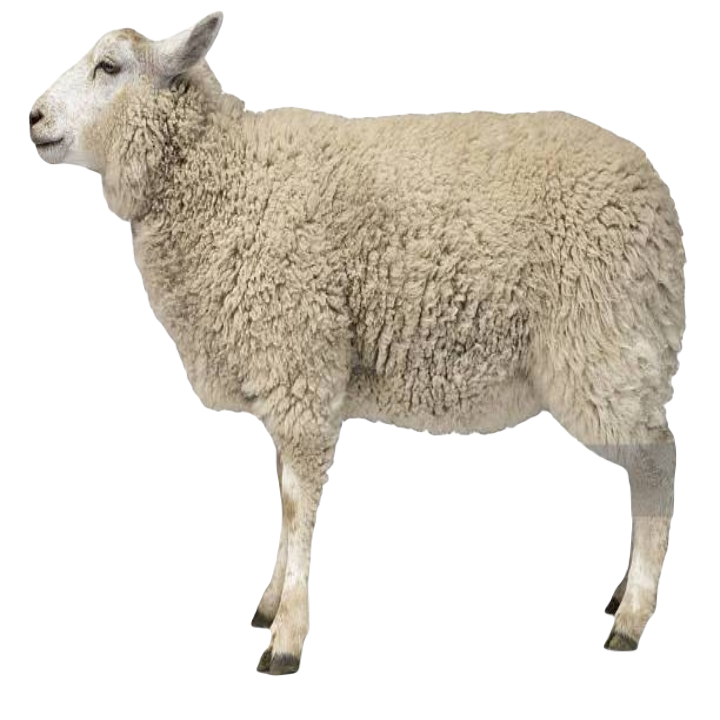Sheep: (21, 9, 692, 683)
